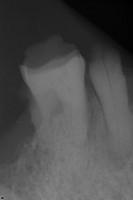Furcation Involvement: (107, 152, 131, 172)
